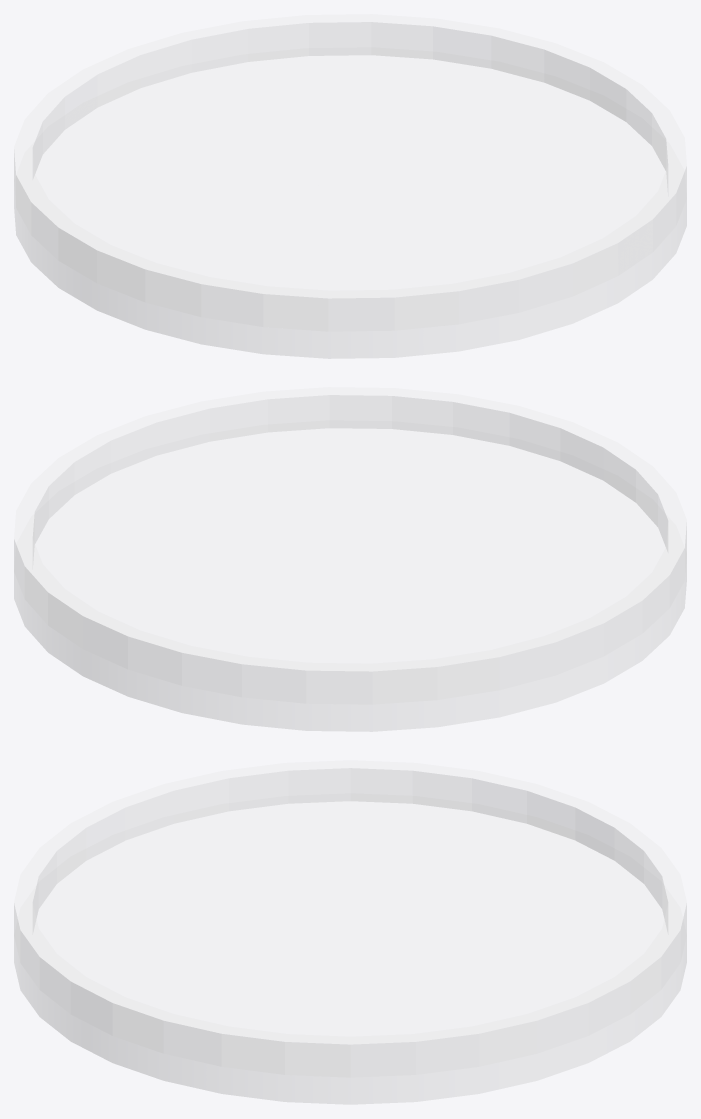
The model's file is 3D_Expt1_PetriDish_NoLight.gltf.
3 views of the same model, one above another, from view 1: azimuth 30°, elevation 25°; view 2: azimuth 150°, elevation 25°; view 3: azimuth 270°, elevation 25° (orthographic).
Parts seen in each view (by area): view 1: PETRIDISHSIDES, PETRIDISHBASE; view 2: PETRIDISHSIDES, PETRIDISHBASE; view 3: PETRIDISHSIDES, PETRIDISHBASE.
Boxes of the visible parts, left/top/right/bottom form: PETRIDISHSIDES: left=14, top=48, right=686, bottom=358; PETRIDISHBASE: left=14, top=14, right=686, bottom=331; PETRIDISHSIDES: left=14, top=421, right=686, bottom=731; PETRIDISHBASE: left=14, top=387, right=686, bottom=704; PETRIDISHSIDES: left=14, top=794, right=686, bottom=1104; PETRIDISHBASE: left=14, top=760, right=686, bottom=1077.
Size of the model in its own units: 1.07 by 0.1052 by 1.07.
1 material, 1 textured.
